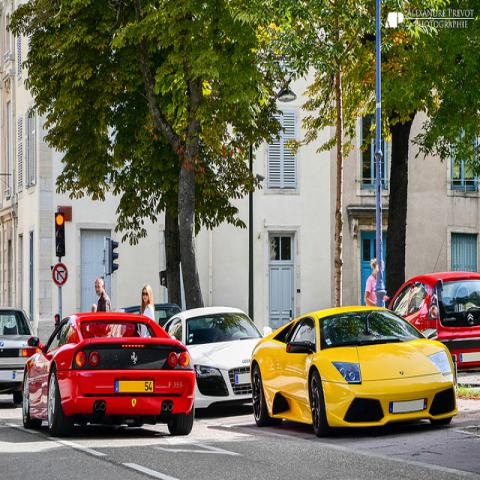car: (251, 306, 457, 438), (22, 311, 196, 437), (163, 306, 272, 410), (389, 270, 479, 374), (0, 306, 39, 404), (112, 303, 182, 328)
